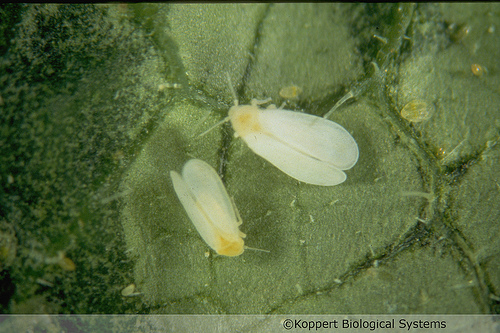whitefly: (200, 70, 360, 186), (170, 158, 271, 257)
